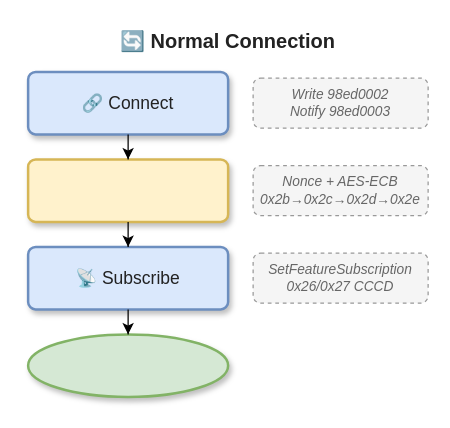
Some shapes in this 450 by 428 pixel diagram are drawn without their labels. Here are the shapes that lost their labels. From the top down, the centre of each, then its label:
the point at 128,191: 🔐 Authenticate
the point at 128,367: ✅ Syncing
